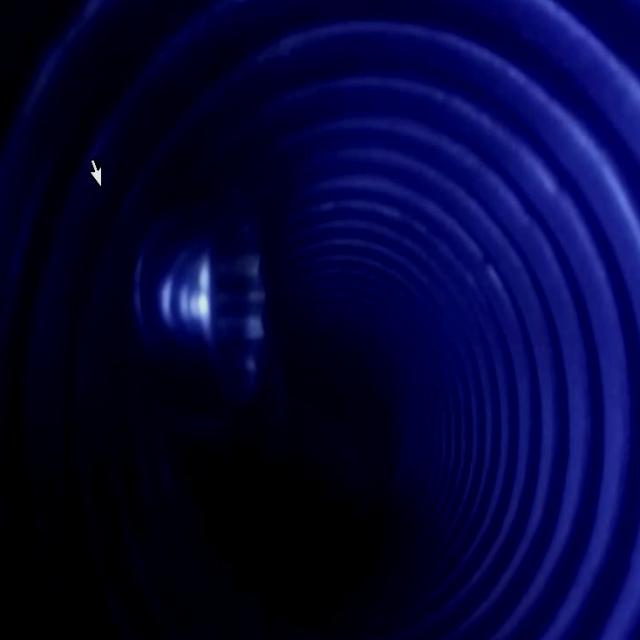metal piece: (132, 212, 269, 406)
